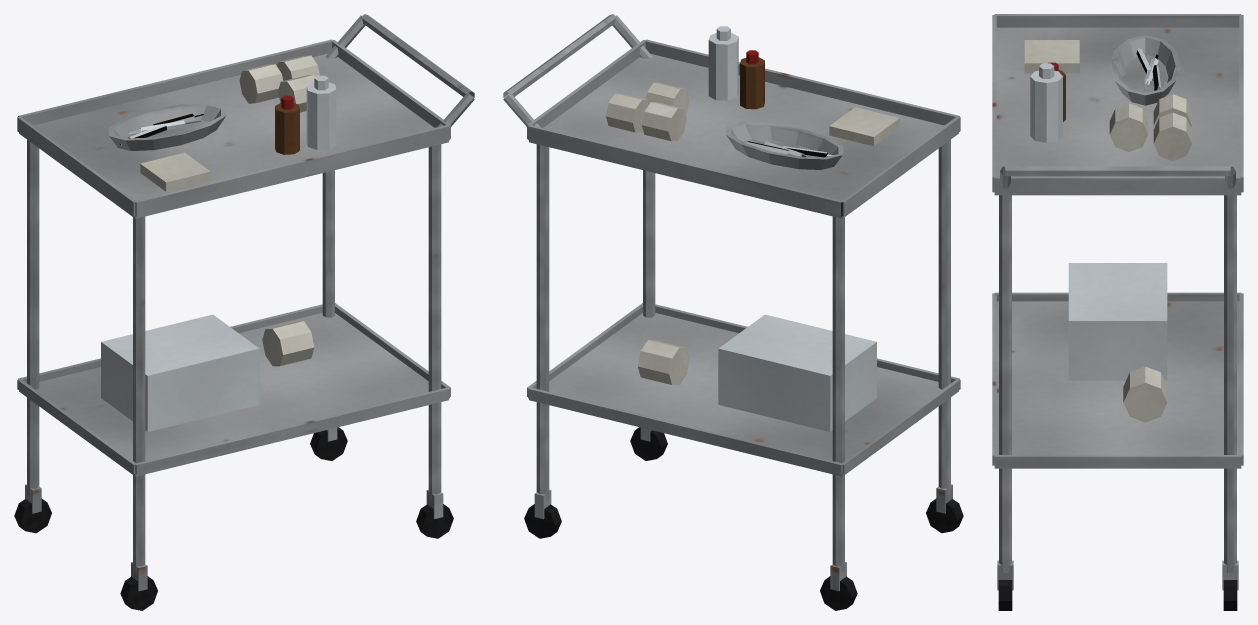
File: Trolley_Instruments.fbx
The picture shows the model from 3 angles, left to right: view 1: azimuth 30°, elevation 25°; view 2: azimuth 150°, elevation 25°; view 3: azimuth 270°, elevation 25°; orthographic projection. The views are drawn at different scales.
Visible parts, largest first — view 1: столик процедурный; view 2: столик процедурный; view 3: столик процедурный.
Part boxes in pixels (x1=…): столик процедурный: x1=14, y1=14, x2=474, y2=610; столик процедурный: x1=503, y1=14, x2=963, y2=610; столик процедурный: x1=992, y1=14, x2=1243, y2=610.
Size of the model in its own units: 0.7837 by 0.996 by 0.458.
1 material, 1 textured.
